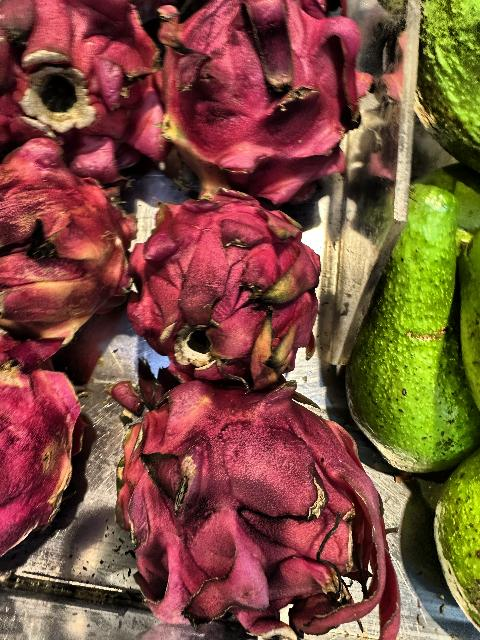buah-naga-belum-matang: (153, 0, 349, 196), (0, 132, 116, 344), (0, 350, 84, 552)
buah-naga-matang: (95, 378, 422, 640), (130, 170, 324, 388), (0, 0, 160, 164)
